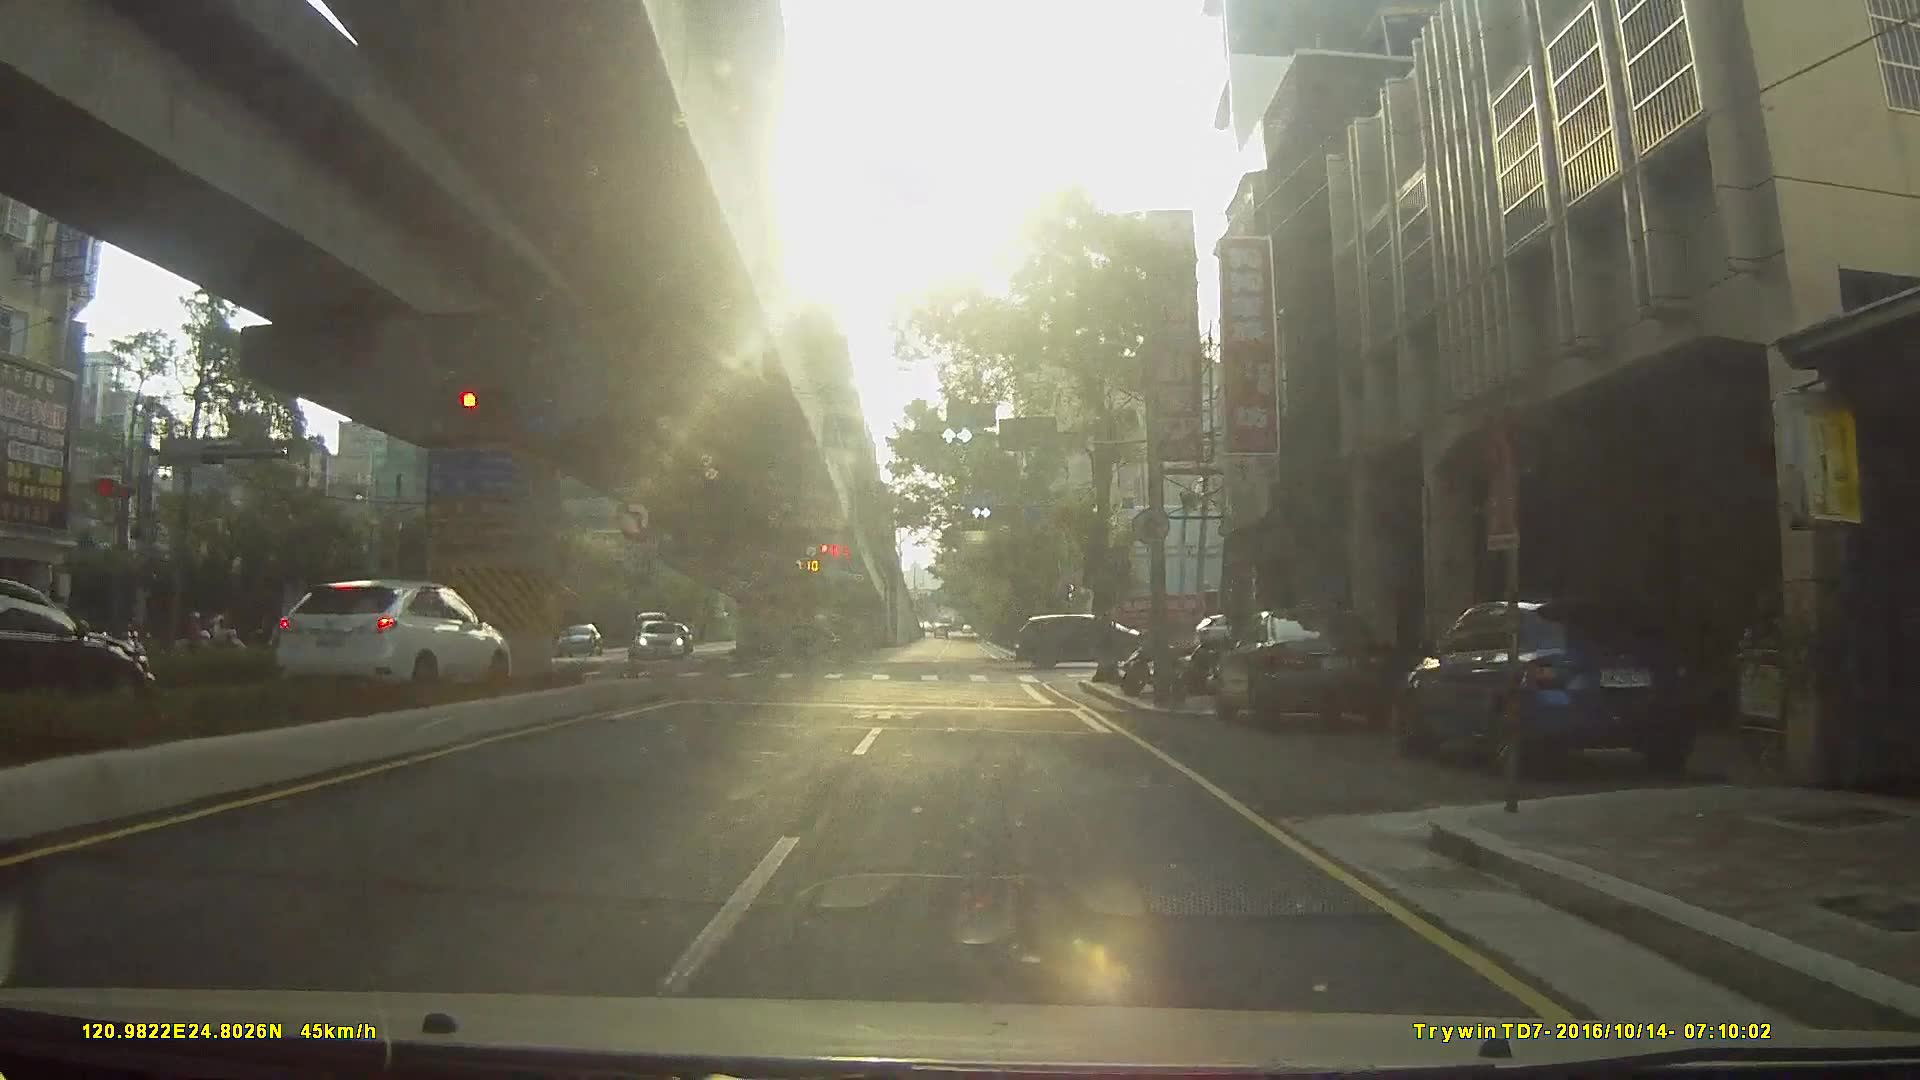vehicle: (1414, 593, 1721, 787), (251, 582, 522, 705), (1217, 604, 1412, 732), (1, 585, 171, 731), (1019, 611, 1178, 669), (632, 617, 682, 659), (549, 622, 601, 658)
